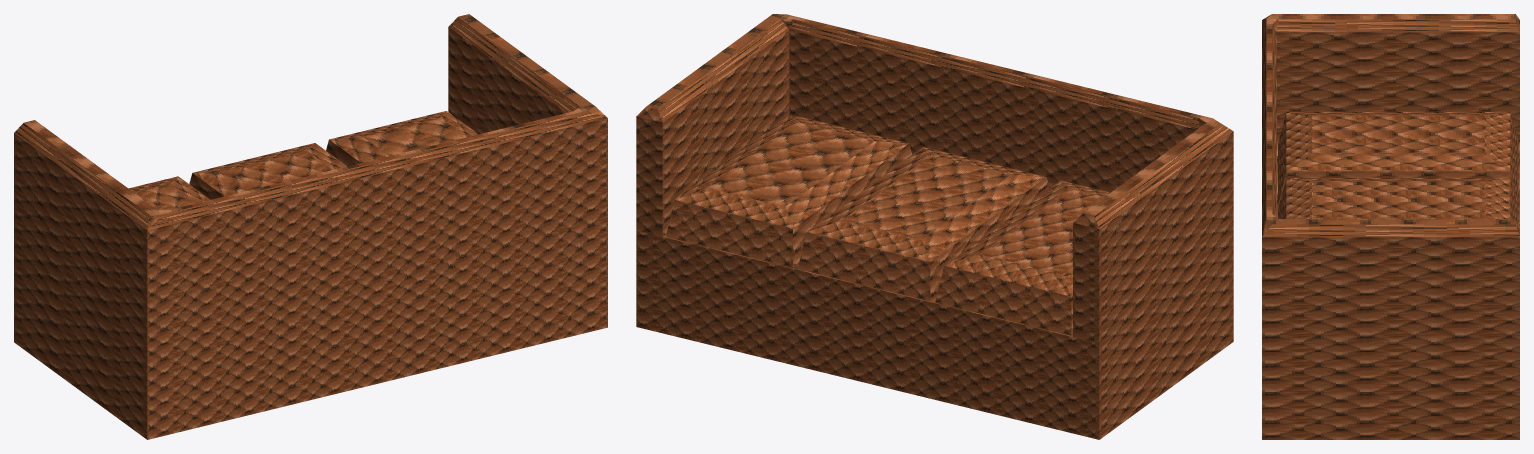
Rendered from sofa2.glb.
The picture shows the model from 3 angles, left to right: view 1: azimuth 30°, elevation 25°; view 2: azimuth 150°, elevation 25°; view 3: azimuth 270°, elevation 25°; orthographic projection. The views are drawn at different scales.
Visible parts, largest first — view 1: Cube.011; view 2: Cube.011; view 3: Cube.011.
Boxes of the visible parts, x1,y1,x2,y2 form: Cube.011: [14, 14, 607, 439]; Cube.011: [636, 14, 1233, 439]; Cube.011: [1262, 14, 1519, 439].
Bounding box in the file's own units: 1.96 × 0.8931 × 0.984.
1 material, 1 textured.
